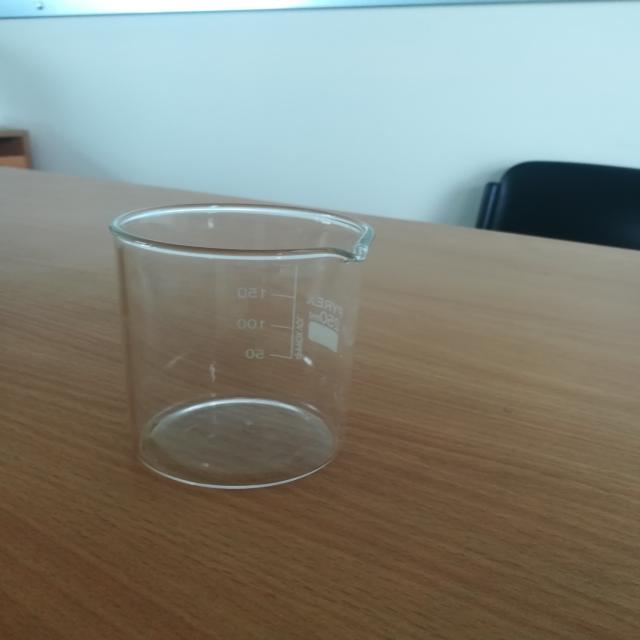Beaker: (65, 170, 418, 514)
